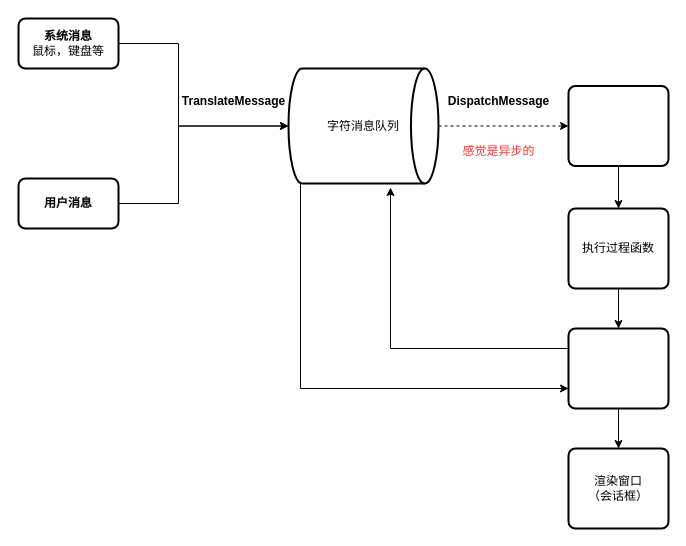
The diagram is 686 pixels wide and 546 high, and some of its shapes have lost their labels. The box of each missing label's shape, as (x1, y1, x2, y2) in pixels:
窗口 句柄 过程函数: (567, 84, 669, 166)
读取队列消息: (567, 327, 669, 409)
